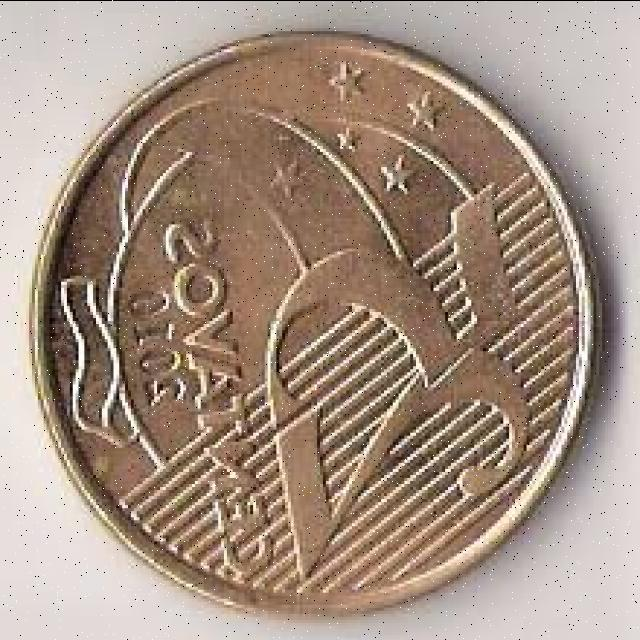25 cent: (32, 41, 602, 614)
